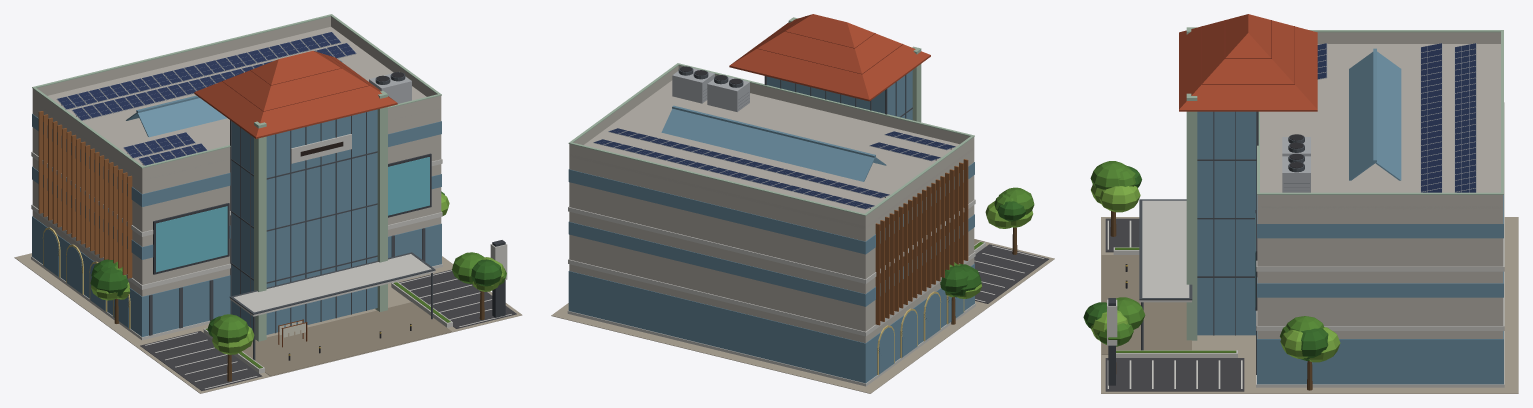
Rendered from shop_5.glb.
3 views of the same model, side by side, from view 1: azimuth 30°, elevation 25°; view 2: azimuth 150°, elevation 25°; view 3: azimuth 270°, elevation 25° (orthographic). The views are drawn at different scales.
Parts seen in each view (by area): view 1: body, windows; view 2: body; view 3: body.
Part boxes in pixels (x1,y1,x2,y2): body: [14, 14, 522, 393]; windows: [156, 157, 429, 355]; body: [551, 14, 1054, 393]; body: [1083, 14, 1518, 393].
Bounding box in the file's own units: 34.82 × 23.84 × 33.25.
